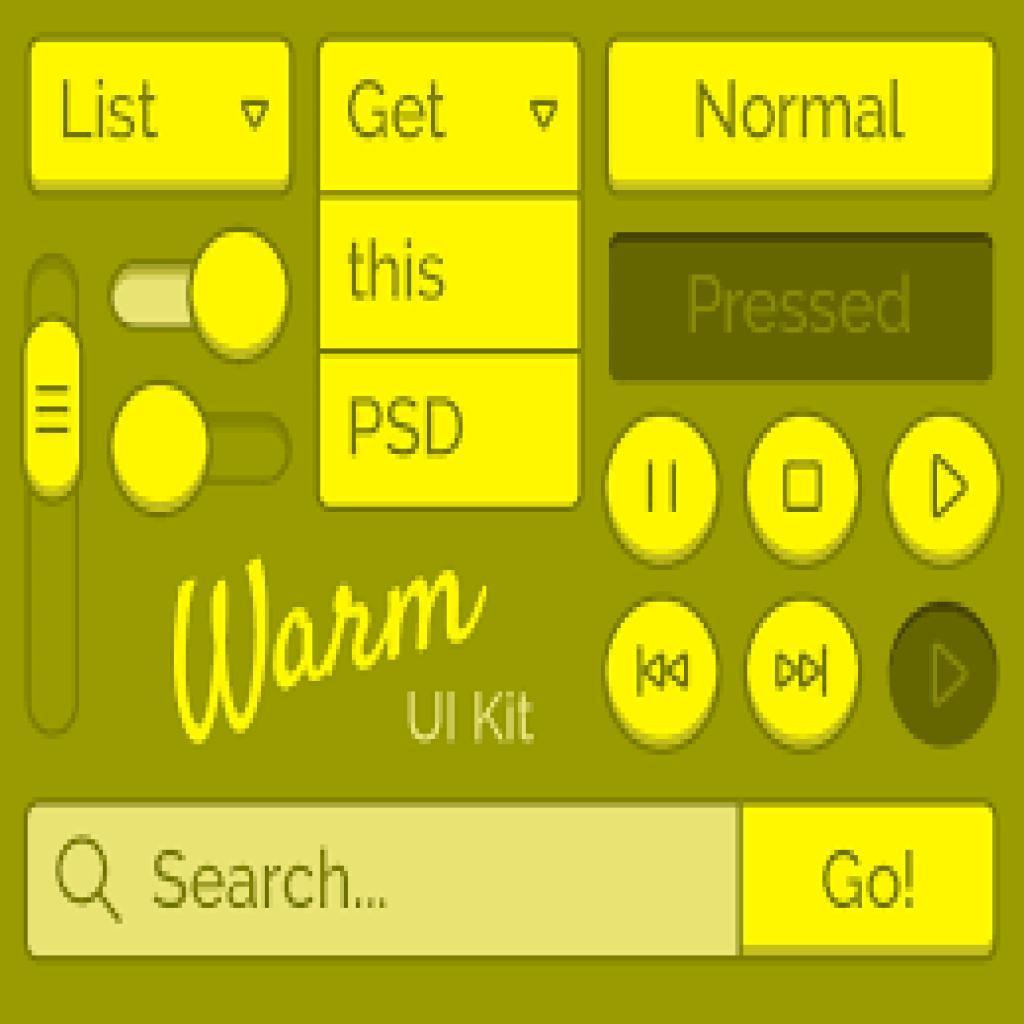button: (609, 37, 997, 193), (609, 230, 992, 384), (743, 806, 993, 954)
dropdown: (316, 38, 582, 200), (34, 40, 289, 195)
icon: (607, 595, 722, 759), (604, 411, 720, 573), (744, 413, 862, 572), (745, 598, 862, 756), (888, 412, 1003, 570), (889, 595, 1004, 751)
input: (32, 805, 740, 955)
slider: (21, 245, 88, 744)
switch: (101, 379, 304, 516), (111, 225, 299, 369)
